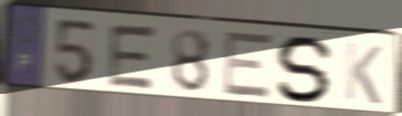5: (52, 16, 98, 89)
8: (168, 27, 212, 95)
E: (104, 21, 161, 93), (220, 29, 276, 101)
K: (341, 40, 385, 108)
S: (273, 33, 339, 105)
